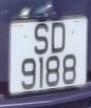1: (36, 55, 46, 91)
8: (61, 52, 79, 88), (44, 54, 62, 89)
9: (19, 55, 38, 94)
D: (50, 17, 67, 58)
S: (32, 21, 50, 58)
